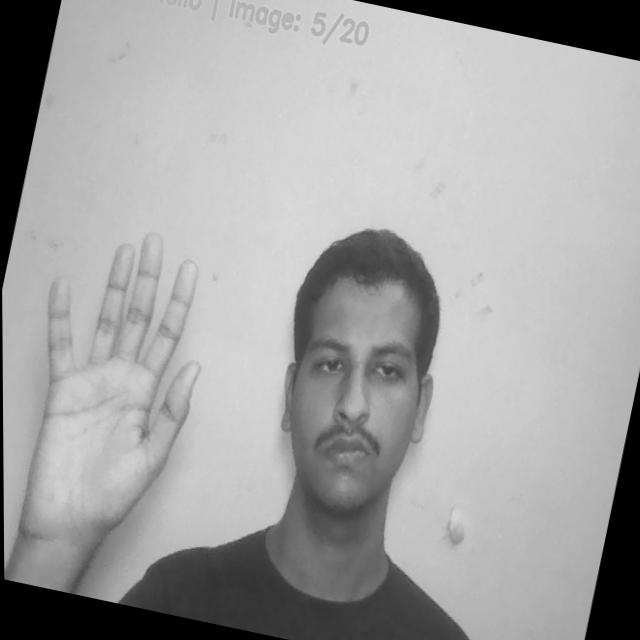Hello: (1, 215, 223, 558)
